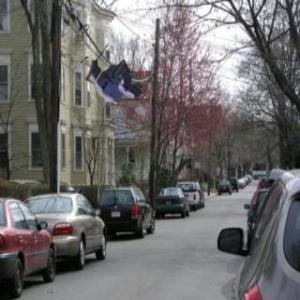drone: (70, 43, 154, 127)
